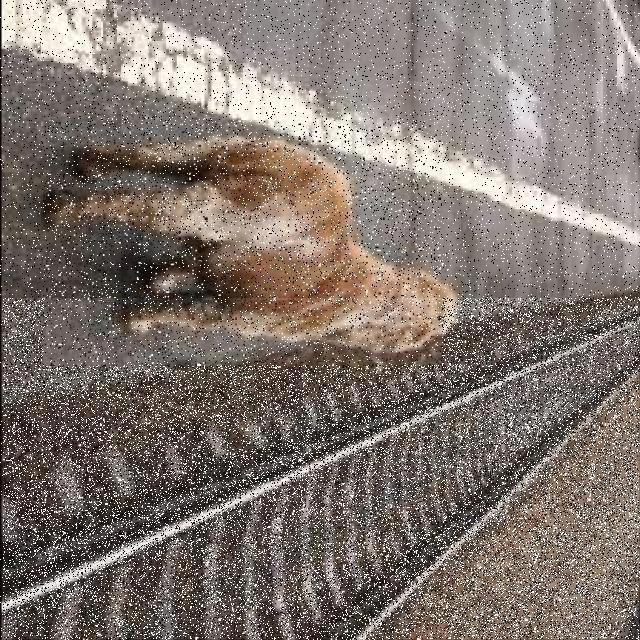rail: (4, 300, 640, 640)
